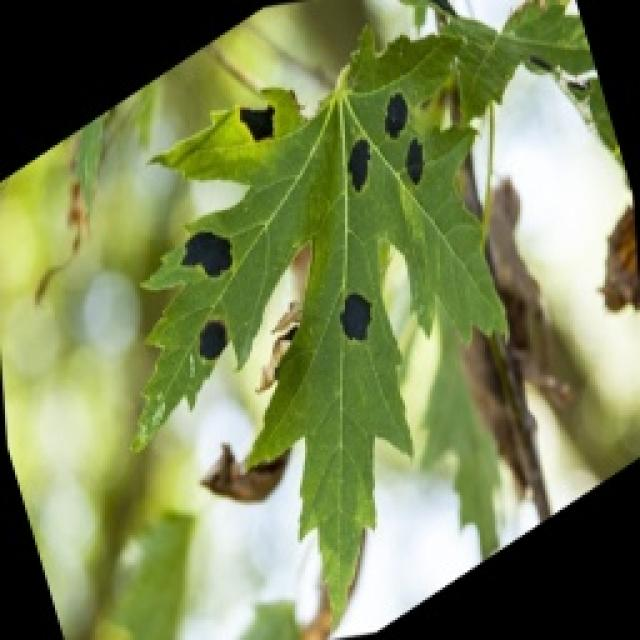Tar_Spot: (172, 59, 526, 399)
